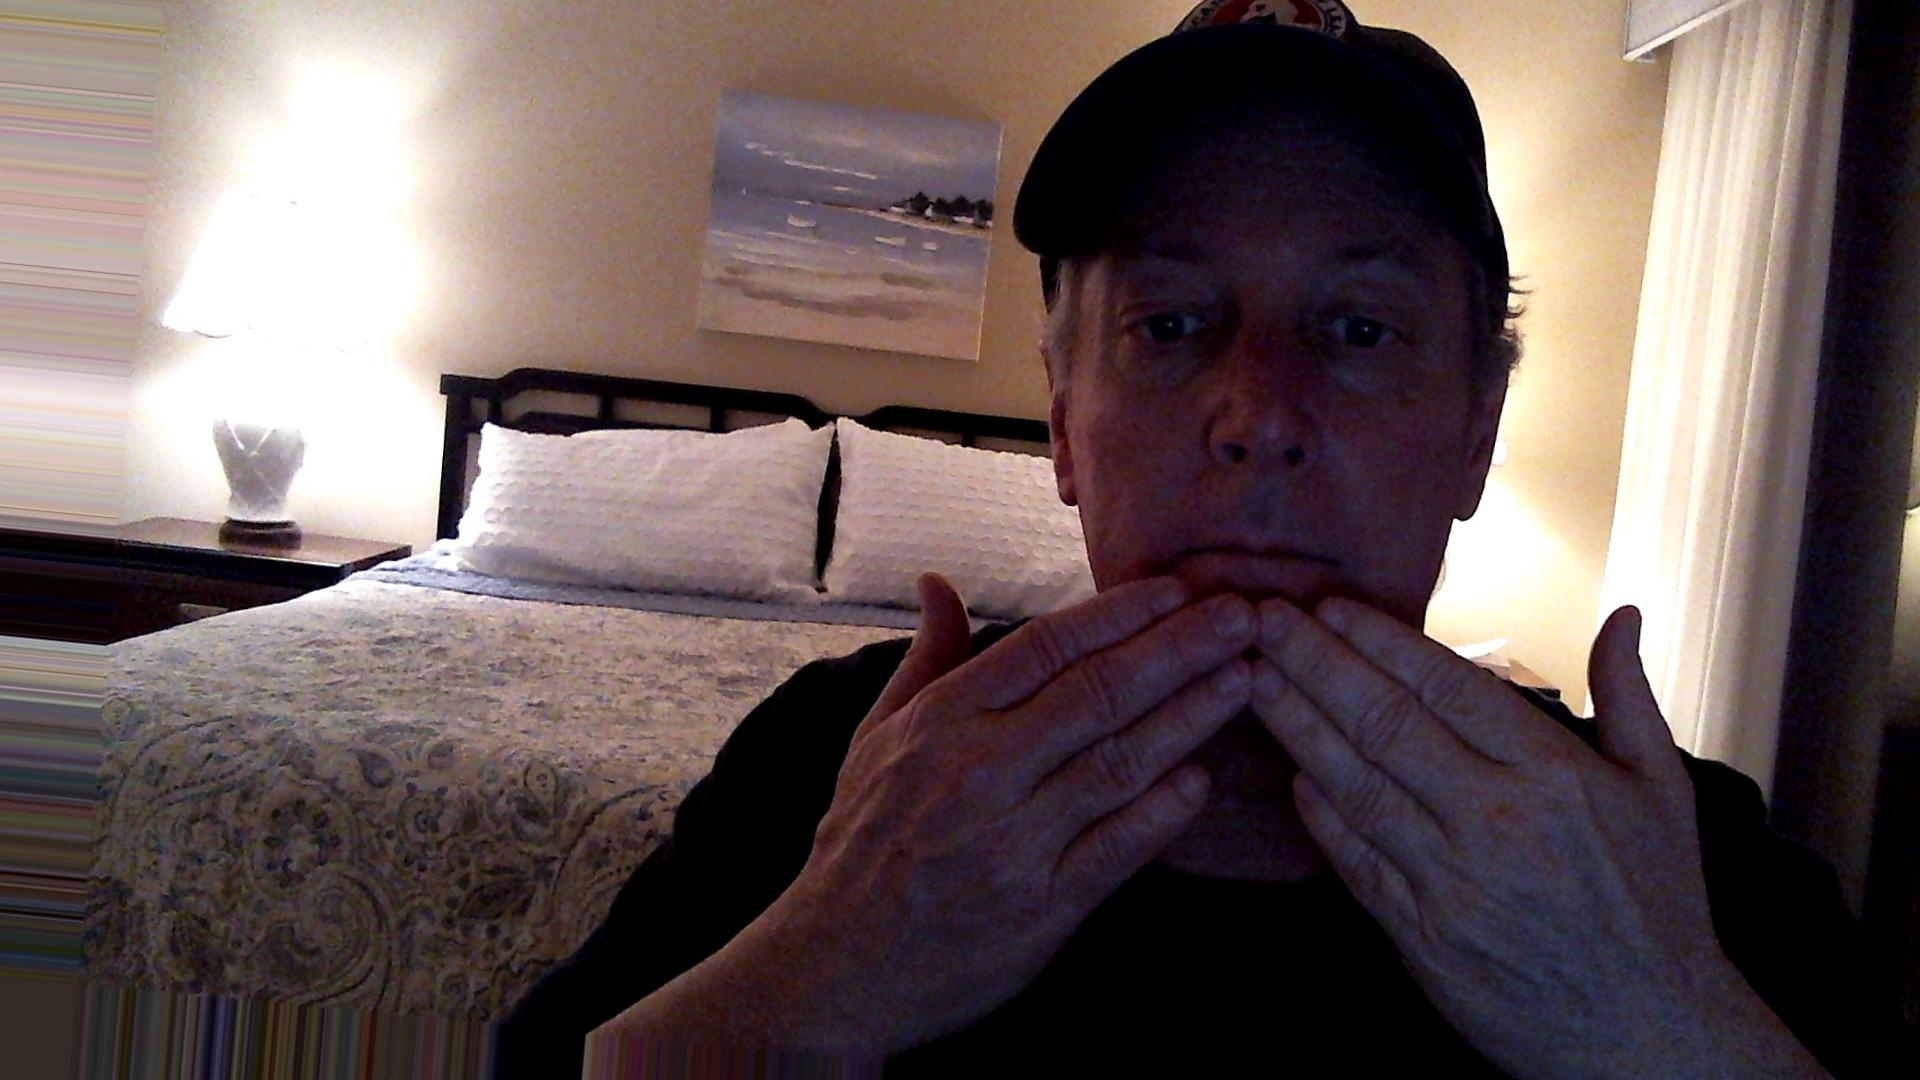Thank You: (829, 549, 1767, 1055)
